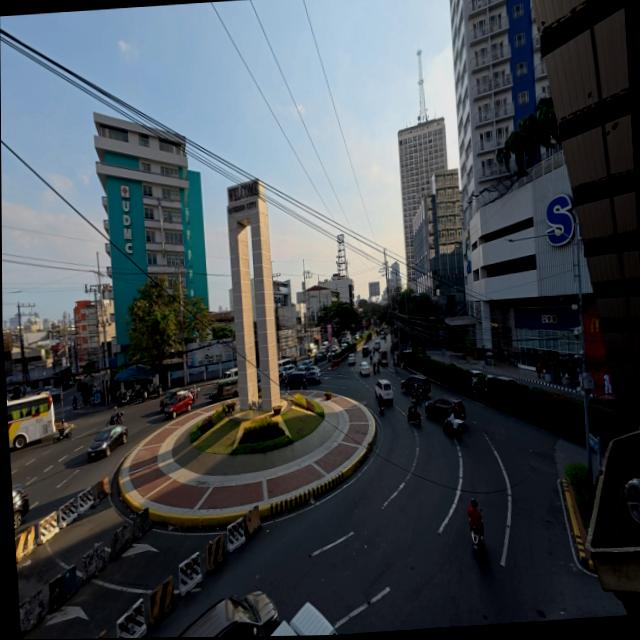Jeepneys: (210, 369, 239, 402), (379, 350, 389, 367)
bus: (7, 393, 55, 449)
car: (179, 591, 279, 636), (88, 425, 128, 459), (425, 397, 466, 420), (12, 485, 29, 529), (165, 392, 193, 418), (160, 387, 186, 412), (402, 375, 430, 396), (375, 379, 393, 403), (286, 371, 307, 389), (306, 366, 321, 383), (471, 370, 485, 387), (496, 376, 518, 383), (360, 362, 370, 376), (295, 363, 309, 373), (348, 353, 356, 366), (318, 349, 327, 359), (301, 360, 313, 367), (363, 346, 370, 357), (375, 340, 381, 350), (342, 343, 348, 349)
motorcycle: (443, 419, 463, 438), (471, 527, 482, 556), (53, 426, 72, 442), (407, 405, 421, 425), (107, 412, 124, 425), (118, 392, 131, 405), (411, 391, 422, 404), (378, 396, 385, 413), (72, 399, 77, 410), (373, 365, 377, 375), (378, 362, 381, 372), (370, 356, 373, 363)
vans: (272, 602, 337, 635), (220, 369, 238, 380), (277, 358, 293, 370), (323, 342, 329, 348)
